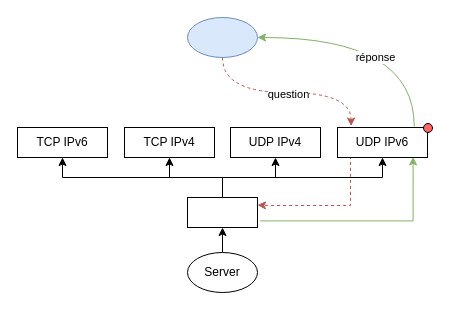
The diagram is 450 pixels wide and 310 high, and some of its shapes have lost their labels. The centre of each missing label's shape, as x and y in pixels:
Client: the point at 222,37
main handler: the point at 222,212
